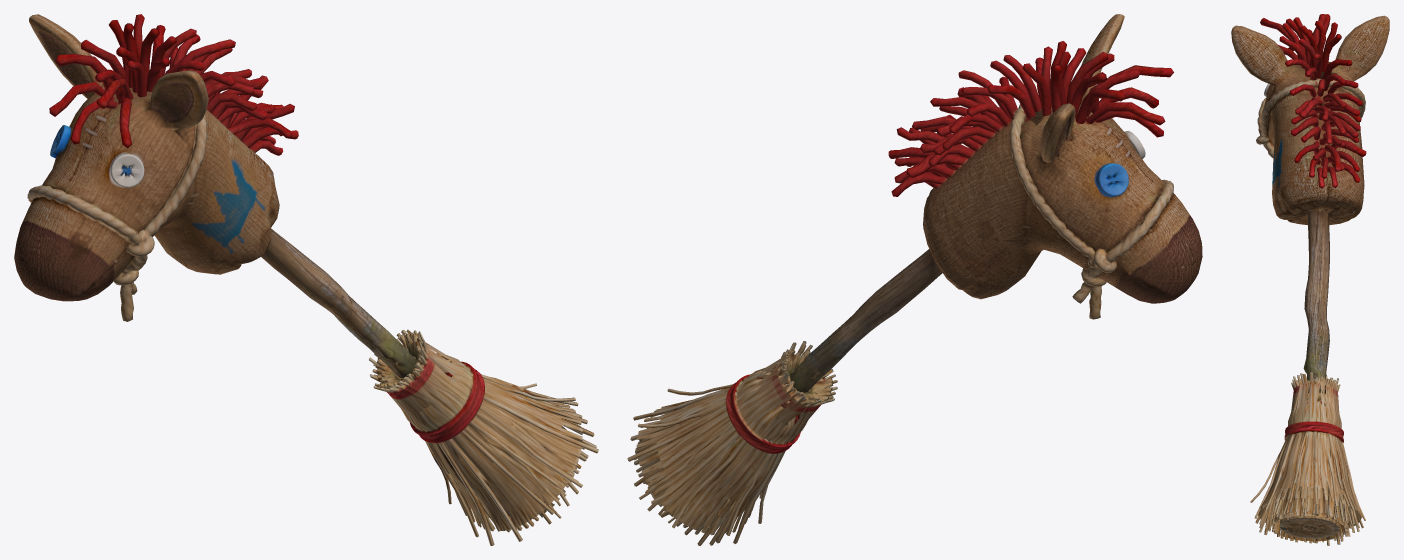
File: sir_bonk_hobby_horse.fbx
3 renders of one model, left to right at view 1: azimuth 30°, elevation 25°; view 2: azimuth 150°, elevation 25°; view 3: azimuth 270°, elevation 25°, orthographic. The views are drawn at different scales.
Parts seen in each view (by area): view 1: tripo_node_3bbbcd4f; view 2: tripo_node_3bbbcd4f; view 3: tripo_node_3bbbcd4f.
Part boxes in pixels (x1,y1,x2,y2): tripo_node_3bbbcd4f: (14,14,598,545); tripo_node_3bbbcd4f: (627,14,1202,545); tripo_node_3bbbcd4f: (1231,14,1389,545).
Bounding box in the file's own units: 99.95 × 35.3 × 99.95.
1 material, 1 textured.
